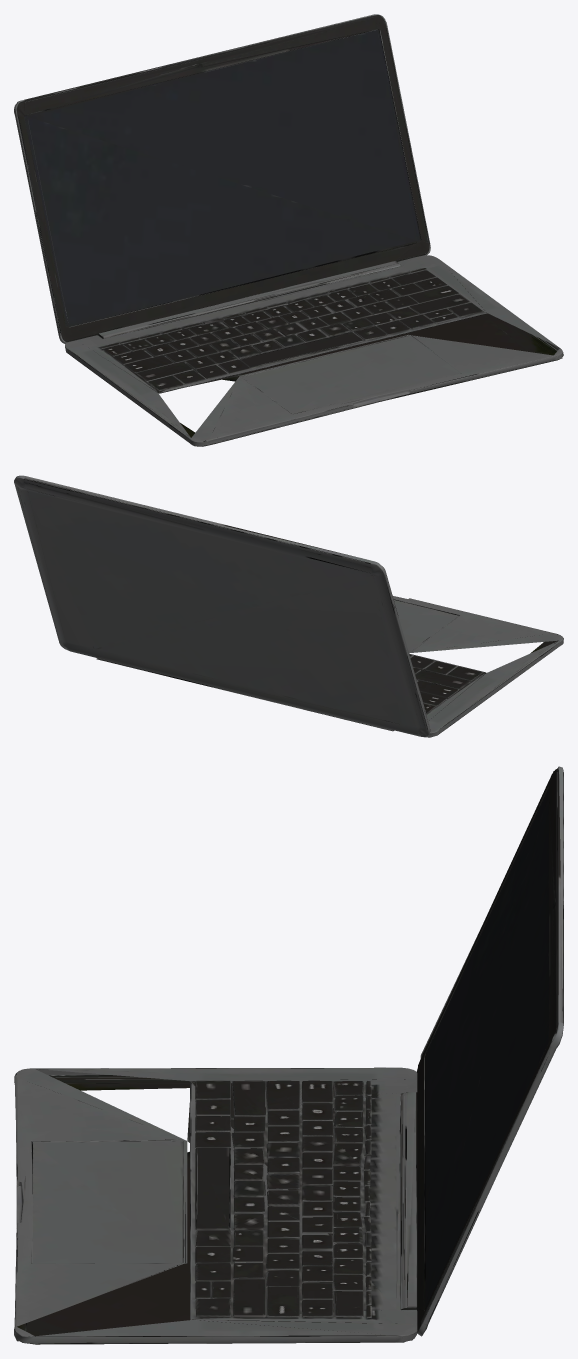
The model's file is desktop.glb.
3 renders of one model, top to bottom at view 1: azimuth 30°, elevation 25°; view 2: azimuth 150°, elevation 25°; view 3: azimuth 270°, elevation 25°, orthographic. The views are drawn at different scales.
Visible parts, largest first — view 1: laptop; view 2: laptop; view 3: laptop.
Part boxes in pixels (x1=…): laptop: x1=14, y1=14, x2=563, y2=446; laptop: x1=14, y1=475, x2=563, y2=737; laptop: x1=14, y1=766, x2=563, y2=1344.
Size of the model in its own units: 0.33 by 0.1815 by 0.2851.
Materials: 1 (1 with a texture image).
